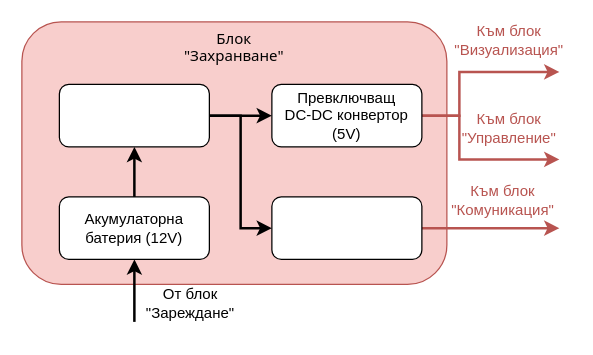
Image size: 593x355. Some labels were removed from this diagram. Each missing label, with the box of its shape:
Превключващ DC-DC конвертор (4V): (271, 196, 422, 259)
Прекъсвач: (58, 83, 209, 147)
